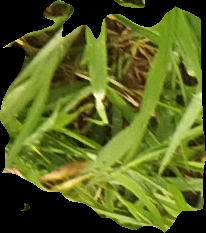grass: (1, 1, 205, 232)
